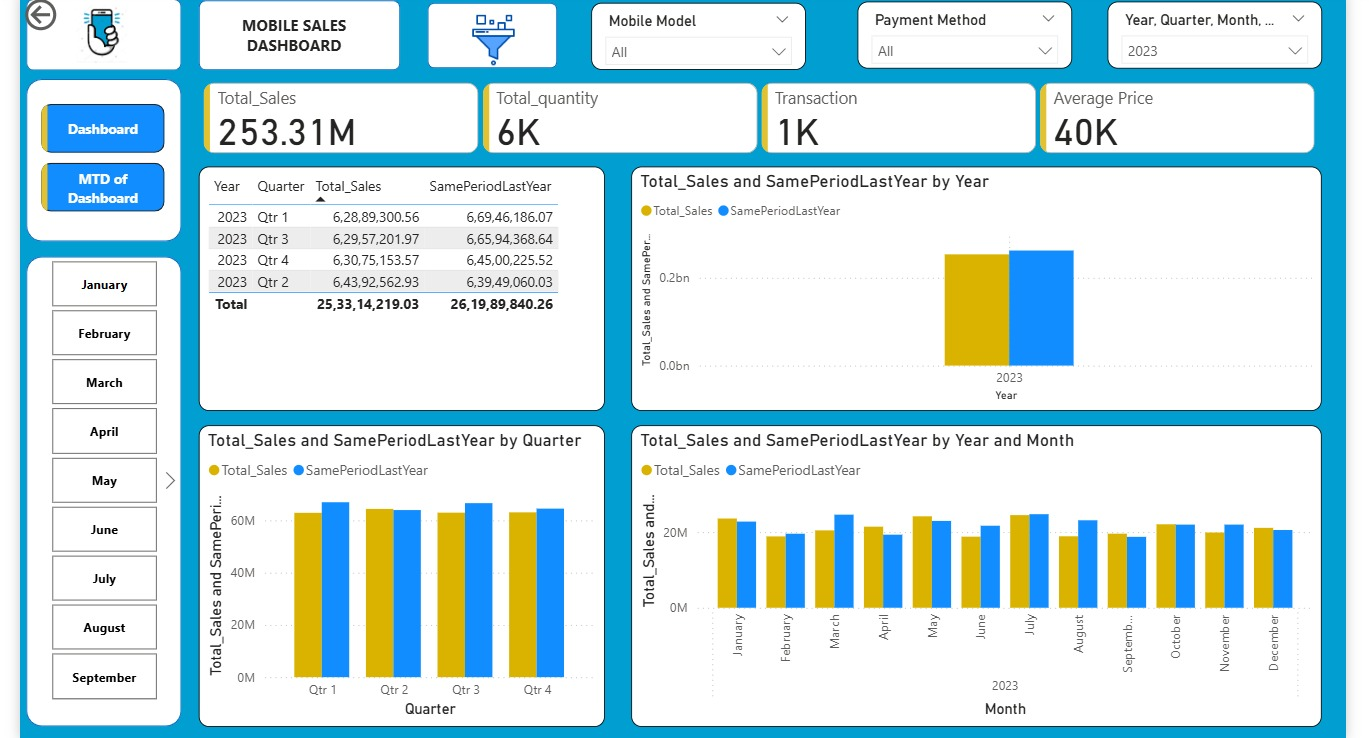

The dashboard page shown, as its layout file describes it:
{"tool":"powerbi","page":{"name":"Same Period Last Year","canvas":[1280,720],"ordinal":2},"visuals":[{"type":"shape","box":[393.1,8.6,125.3,63.4],"z":1000},{"type":"shape","box":[5.8,4.3,149.8,69.1],"z":2000},{"type":"image","box":[34.6,5.8,87.8,64.8],"z":3000},{"type":"shape","box":[5.8,82.1,149.8,157],"z":4000},{"type":"image","box":[407.5,14.4,97.9,60.5],"z":5000},{"type":"cardVisual","fields":{"Data":["Sales_Data.Total_Sales","Sales_Data.Total_quantity","Sales_Data.Transaction","Sales_Data.Average Price"]},"box":[172.8,83.5,1058.4,77.8],"z":6000},{"type":"slicer","fields":{"Values":["Sales_Data.Mobile Model"]},"box":[551.5,8.6,207.4,64.8],"z":7000},{"type":"slicer","fields":{"Values":["Custom_Calender.Date.Variation.Date Hierarchy.Year","Custom_Calender.Date.Variation.Date Hierarchy.Quarter","Custom_Calender.Date.Variation.Date Hierarchy.Month","Custom_Calender.Date.Variation.Date Hierarchy.Day"]},"box":[1049.8,7.2,207.4,64.8],"z":8000},{"type":"slicer","fields":{"Values":["Sales_Data.Payment Method"]},"box":[807.8,7.2,207.4,64.8],"z":9000},{"type":"shape","box":[172.8,5.8,194.4,67.7],"z":10000},{"type":"textbox","box":[198.7,14.4,131,51.8],"z":11000},{"type":"clusteredColumnChart","fields":{"Category":["Custom_Calender.Date.Variation.Date Hierarchy.Year","Custom_Calender.Date.Variation.Date Hierarchy.Quarter"],"Y":["Sales_Data.Total_Sales","Sales_Data.SamePeriodLastYear"]},"box":[590.4,167,666.7,236.2],"z":12000},{"type":"clusteredColumnChart","fields":{"Category":["Custom_Calender.Date.Variation.Date Hierarchy.Year","Custom_Calender.Date.Variation.Date Hierarchy.Month"],"Y":["Sales_Data.Total_Sales","Sales_Data.SamePeriodLastYear"]},"box":[590.4,416.2,666.7,290.9],"z":13000},{"type":"clusteredColumnChart","fields":{"Category":["Custom_Calender.Date.Variation.Date Hierarchy.Year","Custom_Calender.Date.Variation.Date Hierarchy.Quarter"],"Y":["Sales_Data.Total_Sales","Sales_Data.SamePeriodLastYear"]},"box":[172.8,416.2,391.7,290.9],"z":14000},{"type":"shape","box":[5.8,253.4,149.8,453.6],"z":15000},{"type":"pageNavigator","box":[20.2,106.6,119.5,105.1],"z":16000},{"type":"tableEx","fields":{"Values":["Custom_Calender.Date.Variation.Date Hierarchy.Year","Custom_Calender.Date.Variation.Date Hierarchy.Quarter","Sales_Data.Total_Sales","Sales_Data.SamePeriodLastYear"]},"box":[172.8,167,391.7,236.2],"z":17000},{"type":"actionButton","box":[0,0,100,40],"z":18000},{"type":"slicer","fields":{"Values":["Custom_Calender.Date.Variation.Date Hierarchy.Month"]},"box":[4.3,250.6,151.2,436.3],"z":19000}]}

Visuals, with their boxes on the page's 1280x720 design canvas (x1, y1, x2, y2). These are canvas units, not pixel positions in the 1369x738 screenshot, which may show the page scaled, cropped or inside an application window:
shape: {"left": 393, "top": 9, "right": 518, "bottom": 72}
shape: {"left": 6, "top": 4, "right": 156, "bottom": 73}
image: {"left": 35, "top": 6, "right": 122, "bottom": 71}
shape: {"left": 6, "top": 82, "right": 156, "bottom": 239}
image: {"left": 408, "top": 14, "right": 505, "bottom": 75}
cardVisual - Sales_Data.Total_Sales x Sales_Data.Total_quantity: {"left": 173, "top": 84, "right": 1231, "bottom": 161}
slicer - Sales_Data.Mobile Model: {"left": 552, "top": 9, "right": 759, "bottom": 73}
slicer - Custom_Calender.Date.Variation.Date Hierarchy.Year x Custom_Calender.Date.Variation.Date Hierarchy.Quarter: {"left": 1050, "top": 7, "right": 1257, "bottom": 72}
slicer - Sales_Data.Payment Method: {"left": 808, "top": 7, "right": 1015, "bottom": 72}
shape: {"left": 173, "top": 6, "right": 367, "bottom": 74}
textbox: {"left": 199, "top": 14, "right": 330, "bottom": 66}
clusteredColumnChart - Custom_Calender.Date.Variation.Date Hierarchy.Year x Custom_Calender.Date.Variation.Date Hierarchy.Quarter: {"left": 590, "top": 167, "right": 1257, "bottom": 403}
clusteredColumnChart - Custom_Calender.Date.Variation.Date Hierarchy.Year x Custom_Calender.Date.Variation.Date Hierarchy.Month: {"left": 590, "top": 416, "right": 1257, "bottom": 707}
clusteredColumnChart - Custom_Calender.Date.Variation.Date Hierarchy.Year x Custom_Calender.Date.Variation.Date Hierarchy.Quarter: {"left": 173, "top": 416, "right": 564, "bottom": 707}
shape: {"left": 6, "top": 253, "right": 156, "bottom": 707}
pageNavigator: {"left": 20, "top": 107, "right": 140, "bottom": 212}
tableEx - Custom_Calender.Date.Variation.Date Hierarchy.Year x Custom_Calender.Date.Variation.Date Hierarchy.Quarter: {"left": 173, "top": 167, "right": 564, "bottom": 403}
actionButton: {"left": 0, "top": 0, "right": 100, "bottom": 40}
slicer - Custom_Calender.Date.Variation.Date Hierarchy.Month: {"left": 4, "top": 251, "right": 156, "bottom": 687}
